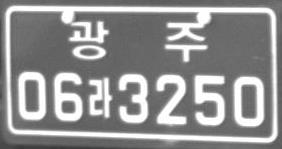0: (232, 75, 265, 128), (17, 70, 47, 120)
2: (155, 73, 188, 124)
3: (118, 72, 149, 124)
5: (193, 74, 226, 126)
6: (53, 71, 83, 122)
광주_D: (68, 19, 208, 62)
라: (88, 76, 113, 118)
